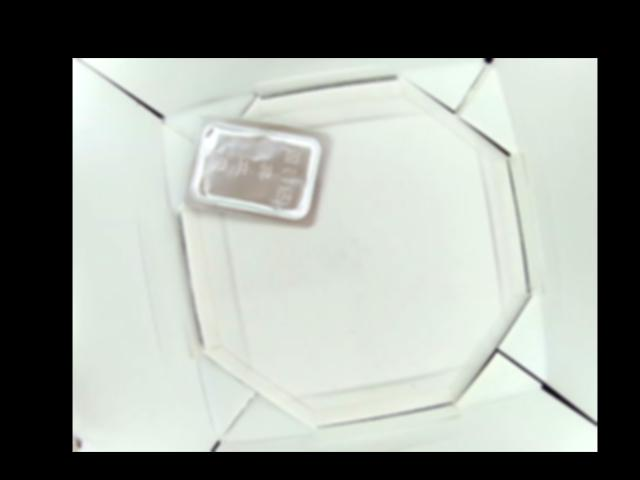Medicine: (187, 113, 333, 227)
